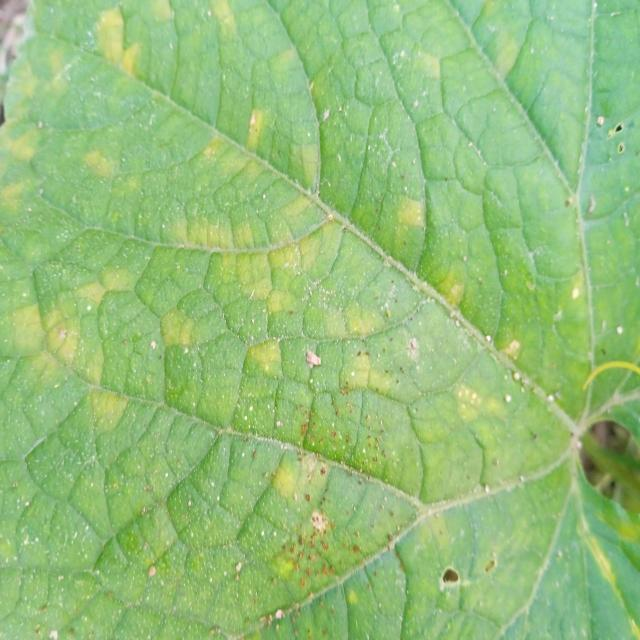cucumber_downy: (0, 0, 577, 633)
